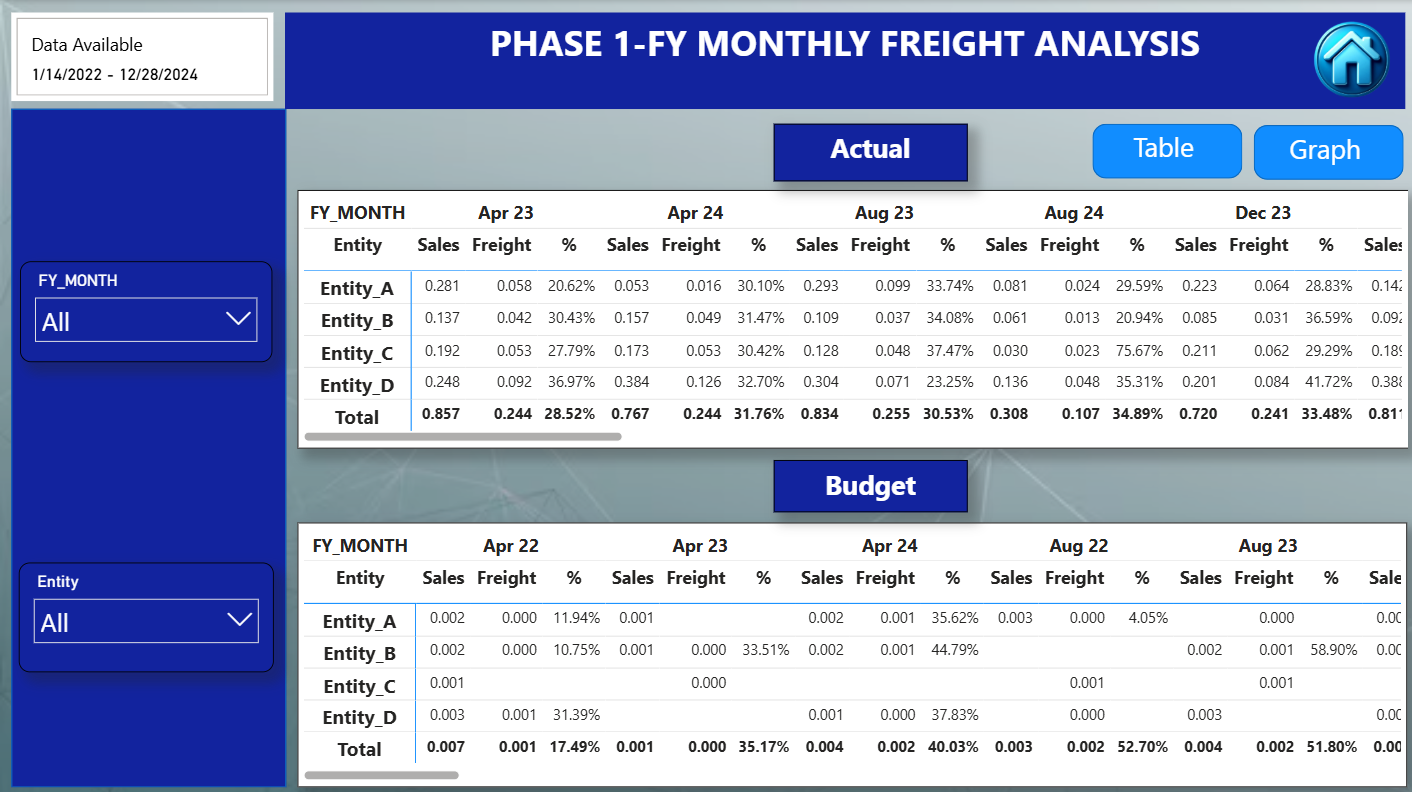

What the dashboard file says about the page in this screenshot:
{"tool":"powerbi","page":{"name":"Phase 1 ","canvas":[1280,720],"ordinal":1},"visuals":[{"type":"shape","box":[10.2,98.2,248.4,613.1],"z":0},{"type":"slicer","fields":{"Values":["Entity.Entity"]},"box":[17,507.9,230.6,98.8],"z":1000},{"type":"slicer","fields":{"Values":["DimDate.FY MONTH"]},"box":[18.2,236.3,228.4,90.9],"z":2000},{"type":"shape","box":[987.2,112,135.5,49.5],"z":2500,"group":"g3"},{"type":"shape","box":[1132.5,112.9,135.5,49.5],"z":2500,"group":"g4"},{"type":"pivotTable","fields":{"Columns":["DimDate.FY MONTH"],"Rows":["Entity.Entity"],"Values":["Measure.Actual Sales","Measure.Freight","Measure.Freight %"]},"box":[268.7,171.6,1003.8,233.7],"z":3000},{"type":"pivotTable","fields":{"Columns":["DimDate.FY MONTH"],"Rows":["Entity.Entity"],"Values":["Measure.Budget Sales","Measure.FreightBudget","Measure.FreightBudget %"]},"box":[268.7,472,1002.7,239.4],"z":4000},{"type":"textbox","box":[698.9,415.5,175,47.4],"z":5000},{"type":"textbox","box":[698.9,111.8,175,51.9],"z":6000},{"type":"textbox","box":[257.4,11.3,1011.7,86.9],"z":7000},{"type":"cardVisual","fields":{"Data":["DimDate.Data Available"]},"box":[10.2,11.3,237.1,80.2],"z":8000},{"type":"textbox","box":[1010.6,112,81.3,47.4],"z":8001,"group":"g3"},{"type":"textbox","box":[1155.9,112.9,81.3,47.4],"z":8001,"group":"g4"},{"type":"group","id":"g1","title":"Group 3","box":[987.2,112,135.5,49.5],"z":9000},{"type":"image","box":[1173.2,7.9,96,96],"z":10000},{"type":"group","id":"g2","title":"Group 6","box":[987.2,112,135.5,49.5],"z":10001,"group":"g1"},{"type":"group","id":"g3","title":"Group 2","box":[987.2,112,135.5,49.5],"z":10001,"group":"g5"},{"type":"group","id":"g4","title":"Group 2","box":[1132.5,112.9,135.5,49.5],"z":10001,"group":"g6"},{"type":"group","id":"g5","title":"Group 1","box":[987.2,112,135.5,49.5],"z":10002,"group":"g2"},{"type":"group","id":"g6","title":"Group 6","box":[1132.5,112.9,135.5,49.7],"z":11000}]}

Visuals, with their boxes in screenshot pixels (x1, y1, x2, y2), scaled from the page's 1280x720 canvas onto the 1412x792 screenshot:
shape: bbox(11, 108, 285, 782)
slicer - Entity.Entity: bbox(19, 559, 273, 667)
slicer - DimDate.FY MONTH: bbox(20, 260, 272, 360)
shape: bbox(1089, 123, 1238, 178)
shape: bbox(1249, 124, 1399, 179)
pivotTable - DimDate.FY MONTH x Entity.Entity: bbox(296, 189, 1404, 446)
pivotTable - DimDate.FY MONTH x Entity.Entity: bbox(296, 519, 1403, 783)
textbox: bbox(771, 457, 964, 509)
textbox: bbox(771, 123, 964, 180)
textbox: bbox(284, 12, 1400, 108)
cardVisual - DimDate.Data Available: bbox(11, 12, 273, 101)
textbox: bbox(1115, 123, 1205, 175)
textbox: bbox(1275, 124, 1365, 176)
"Group 3" group: bbox(1089, 123, 1238, 178)
image: bbox(1294, 9, 1400, 114)
"Group 6" group: bbox(1089, 123, 1238, 178)
"Group 2" group: bbox(1089, 123, 1238, 178)
"Group 2" group: bbox(1249, 124, 1399, 179)
"Group 1" group: bbox(1089, 123, 1238, 178)
"Group 6" group: bbox(1249, 124, 1399, 179)
